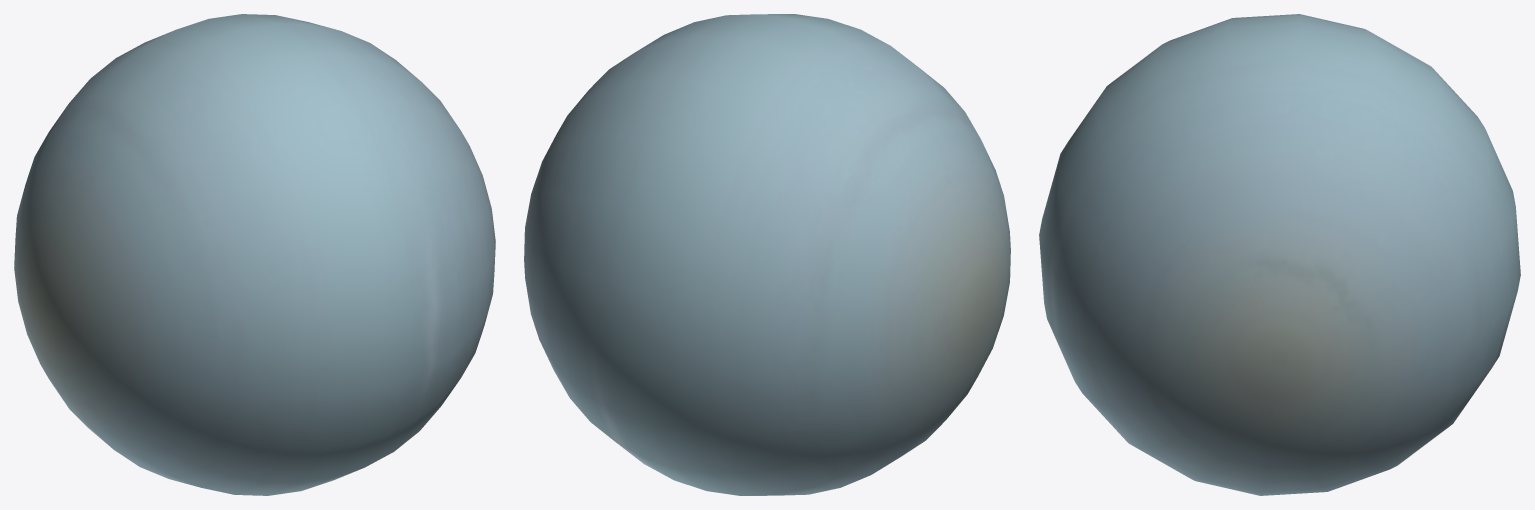
The model's file is Add Row.fbx.
The picture shows the model from 3 angles, left to right: view 1: azimuth 30°, elevation 25°; view 2: azimuth 150°, elevation 25°; view 3: azimuth 270°, elevation 25°; orthographic projection.
Visible parts, largest first — view 1: polySurface5; view 2: polySurface5; view 3: polySurface5.
Boxes of the visible parts, x1,y1,x2,y2 form: polySurface5: [14, 14, 495, 495]; polySurface5: [524, 14, 1010, 495]; polySurface5: [1039, 14, 1520, 495].
Bounding box in the file's own units: 2 × 1.99 × 1.99.
2 materials, 2 textured.
